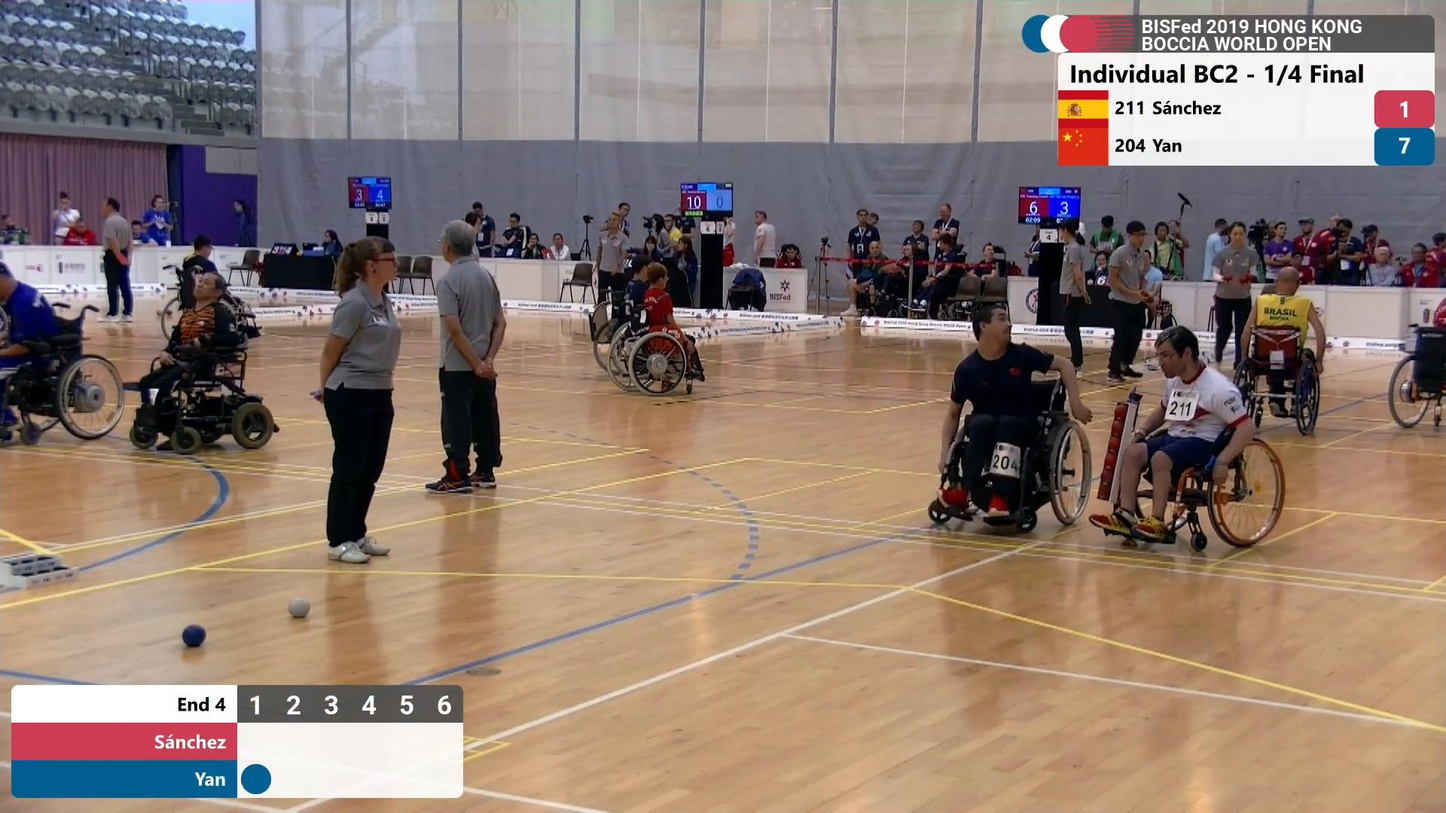blue_ball: (183, 624, 206, 648)
white_ball: (288, 595, 310, 617)
